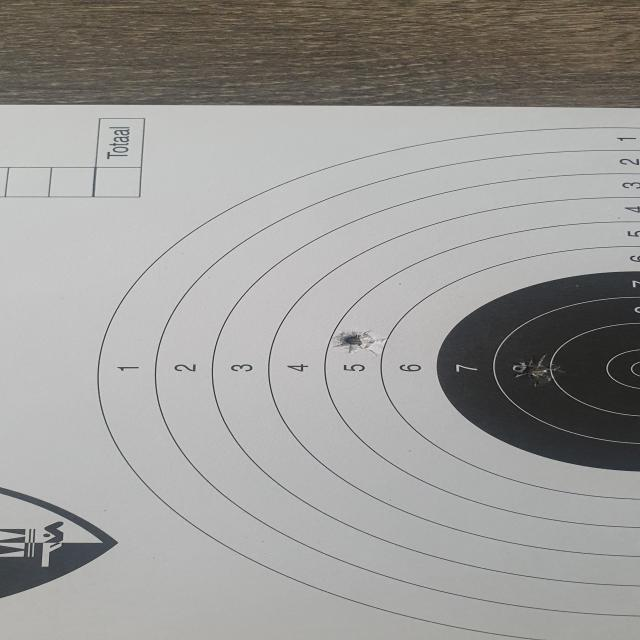5: (330, 328, 389, 358)
9: (511, 354, 563, 387)
Target: (93, 125, 640, 640)
black_contour: (433, 270, 640, 473)
